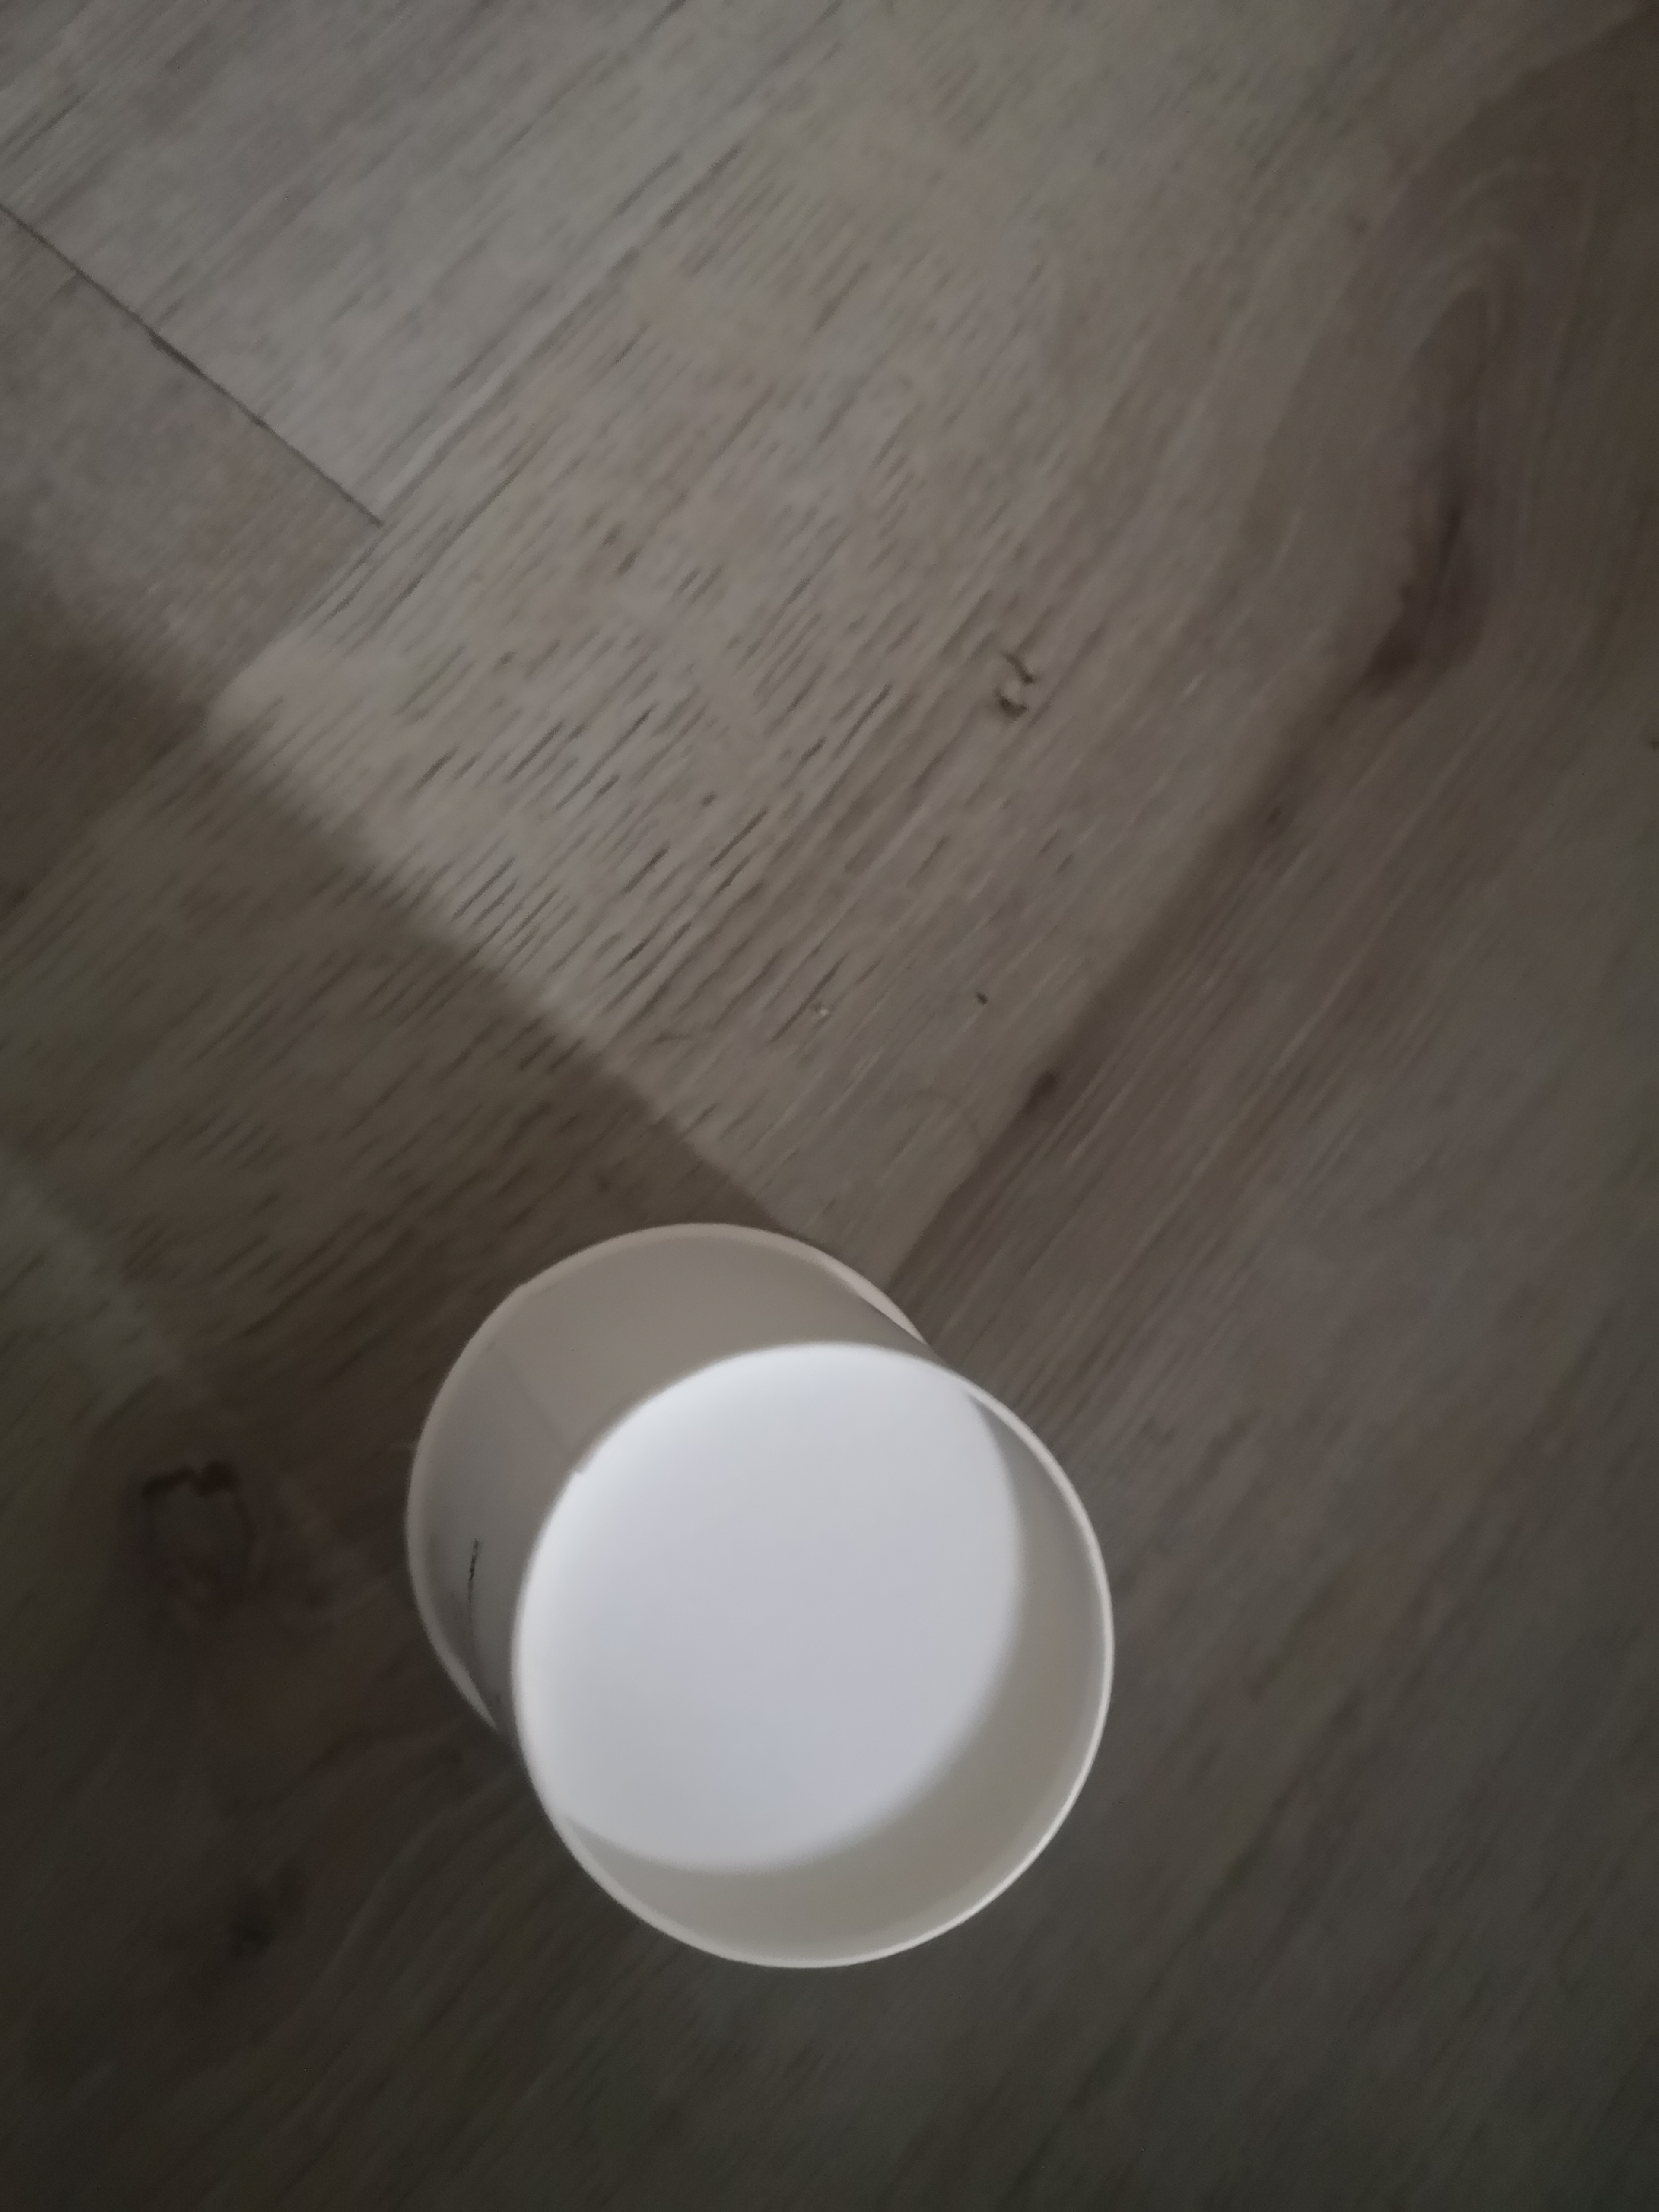cup: (352, 1197, 1176, 1998)
